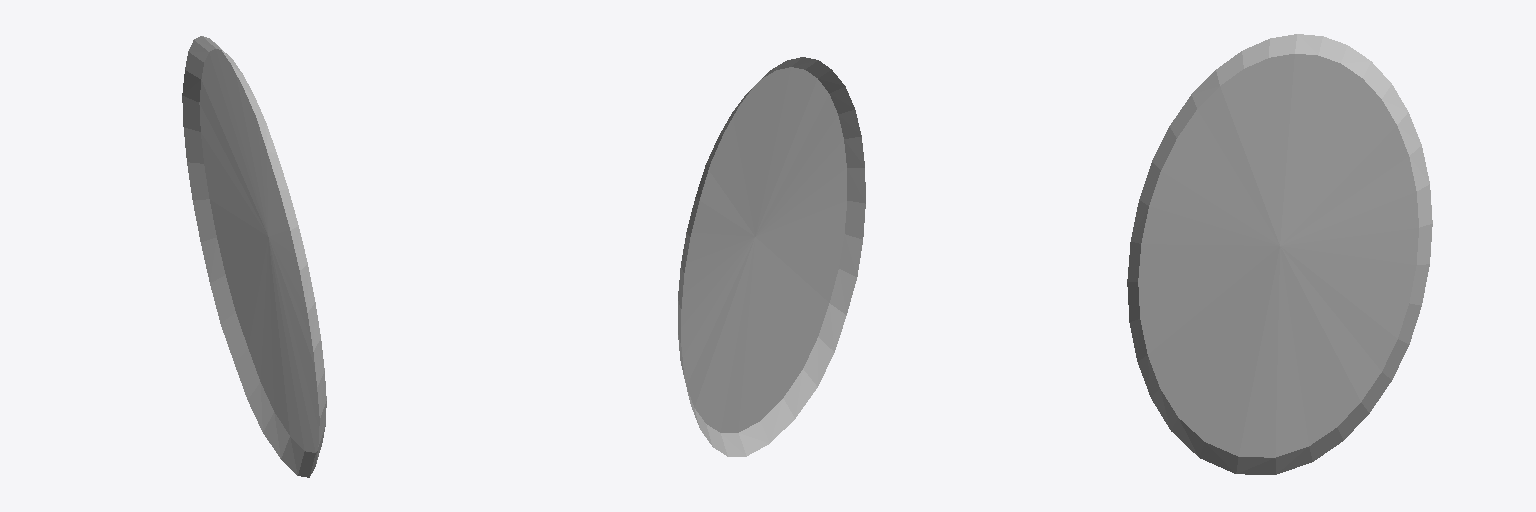
File: swordeco33.obj
3 renders of one model, left to right at view 1: azimuth 30°, elevation 25°; view 2: azimuth 150°, elevation 25°; view 3: azimuth 270°, elevation 25°, orthographic.
Visible parts, largest first — view 1: sworddeco3.001; view 2: sworddeco3.001; view 3: sworddeco3.001.
Boxes of the visible parts, <box> form: sworddeco3.001: <box>182,36,326,477</box>; sworddeco3.001: <box>678,57,865,456</box>; sworddeco3.001: <box>1127,34,1432,474</box>.
Bounding box in the file's own units: 0.8465 × 5.08 × 3.37.